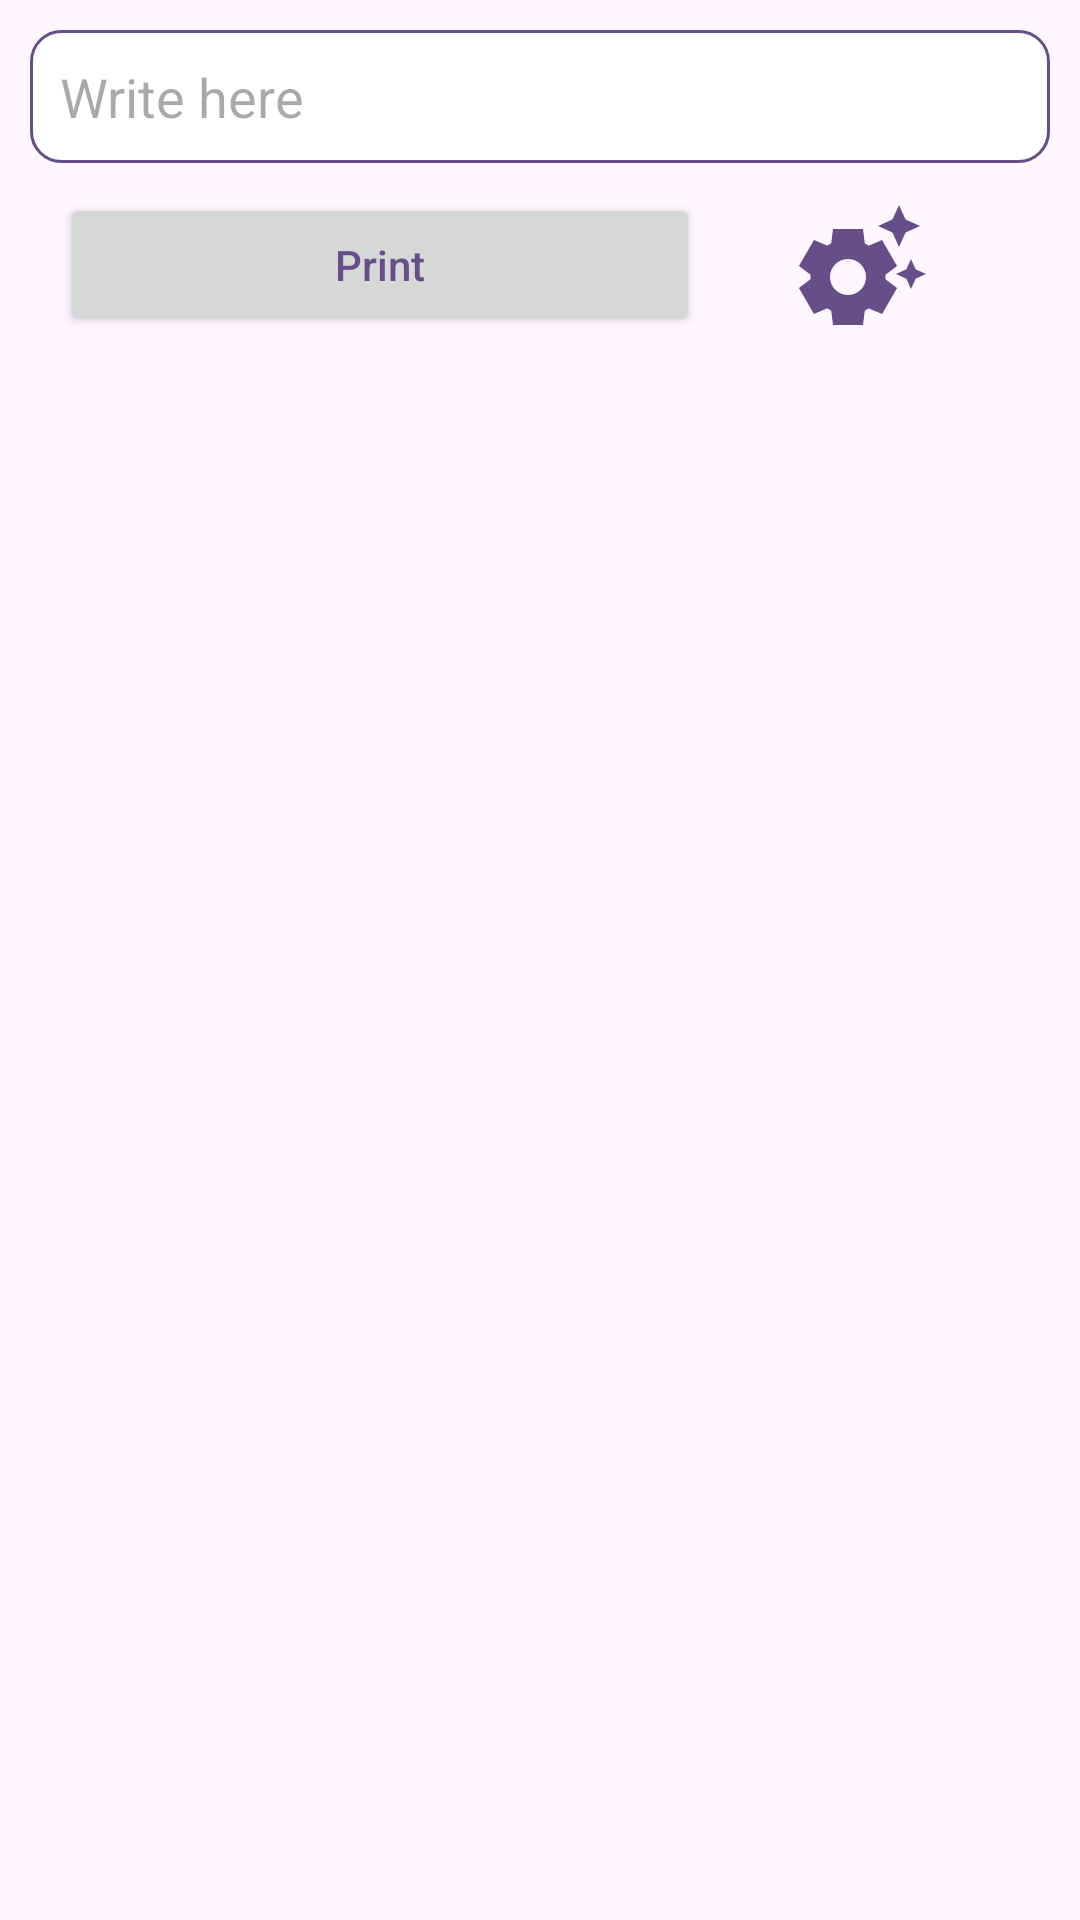

Icon bounding boxes for this 1080w x 1920h phone screenshot, format (x1, y1, x2, y2):
setting: (799, 205, 926, 325)
